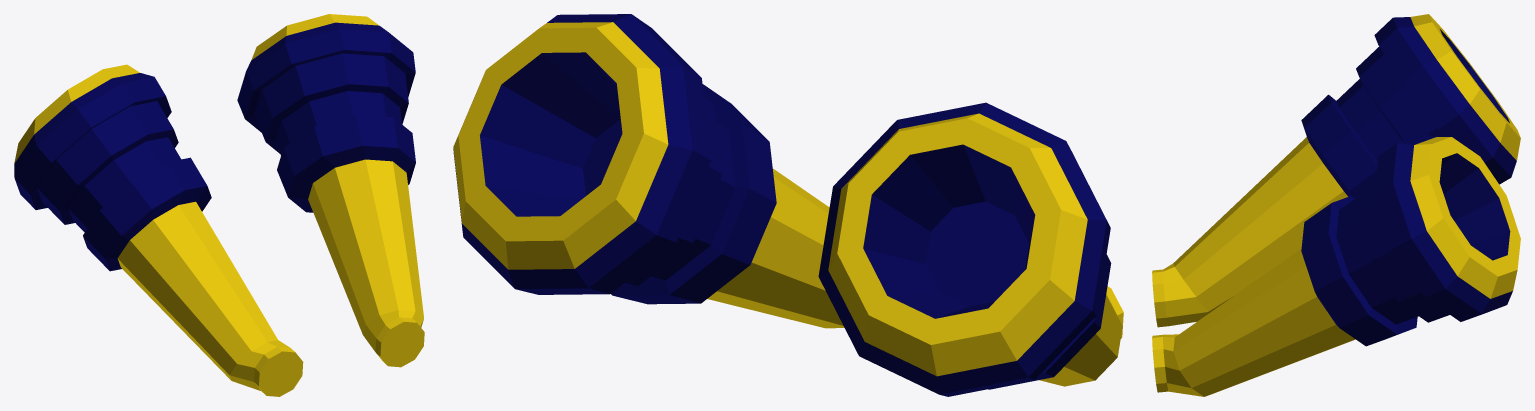
The model's file is Catalysts4.fbx.
3 views of the same model, side by side, from view 1: azimuth 30°, elevation 25°; view 2: azimuth 150°, elevation 25°; view 3: azimuth 270°, elevation 25° (orthographic). The views are drawn at different scales.
Parts seen in each view (by area): view 1: Catalysts4; view 2: Catalysts4; view 3: Catalysts4.
Part boxes in pixels (x1,y1,x2,y2): Catalysts4: [14, 14, 424, 396]; Catalysts4: [453, 14, 1123, 396]; Catalysts4: [1152, 14, 1520, 396].
Size of the model in its own units: 602 by 368 by 448.
